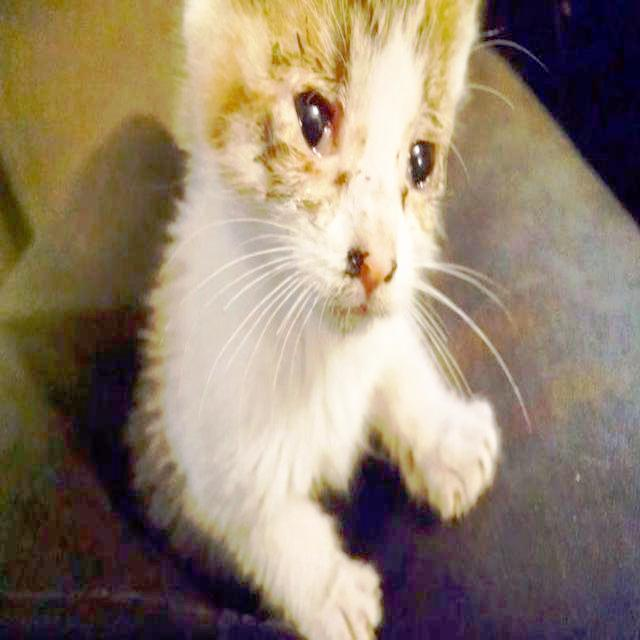eye_infection: (292, 93, 354, 161), (395, 141, 448, 194)
